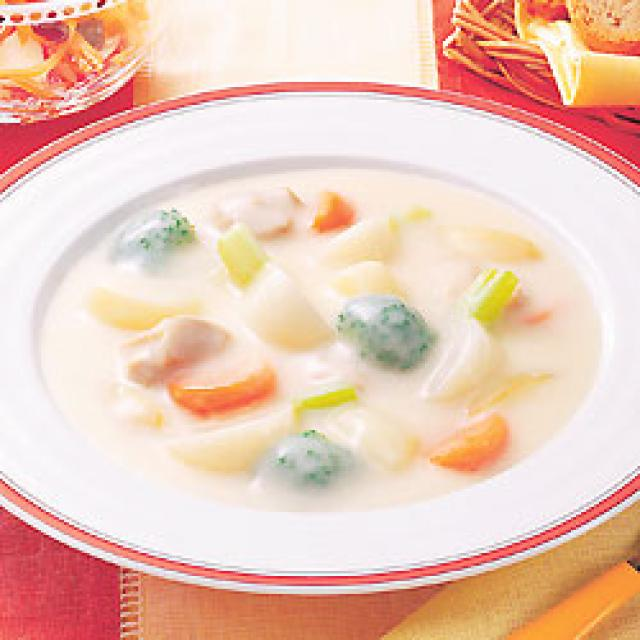汤锅炖物: (0, 67, 640, 604)
